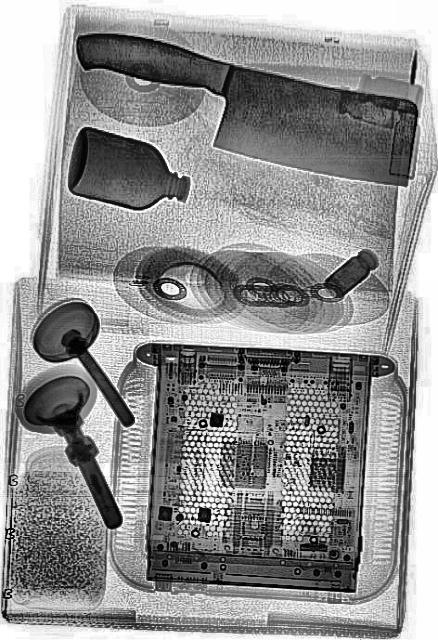Knife: (66, 14, 420, 194)
